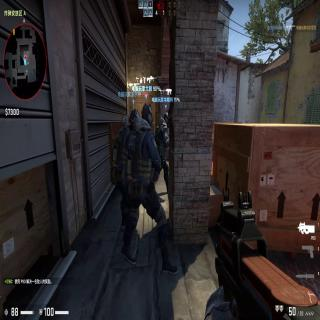CT-Head: (142, 102, 154, 129)
